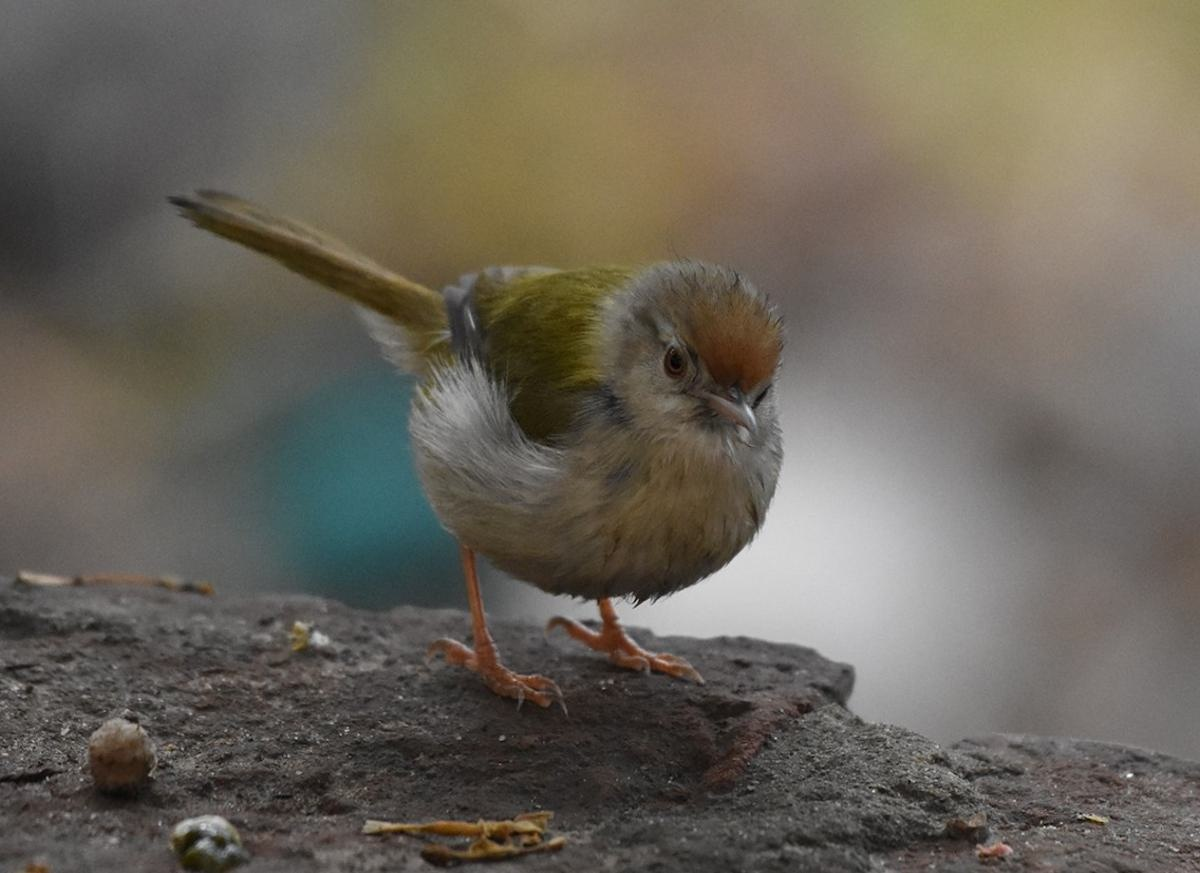tailorbird: (120, 138, 859, 711)
